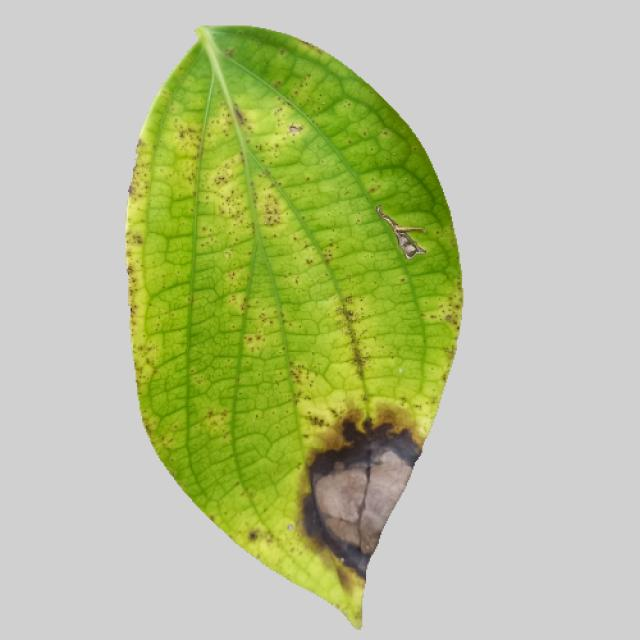leaf-blight: (97, 37, 484, 630)
